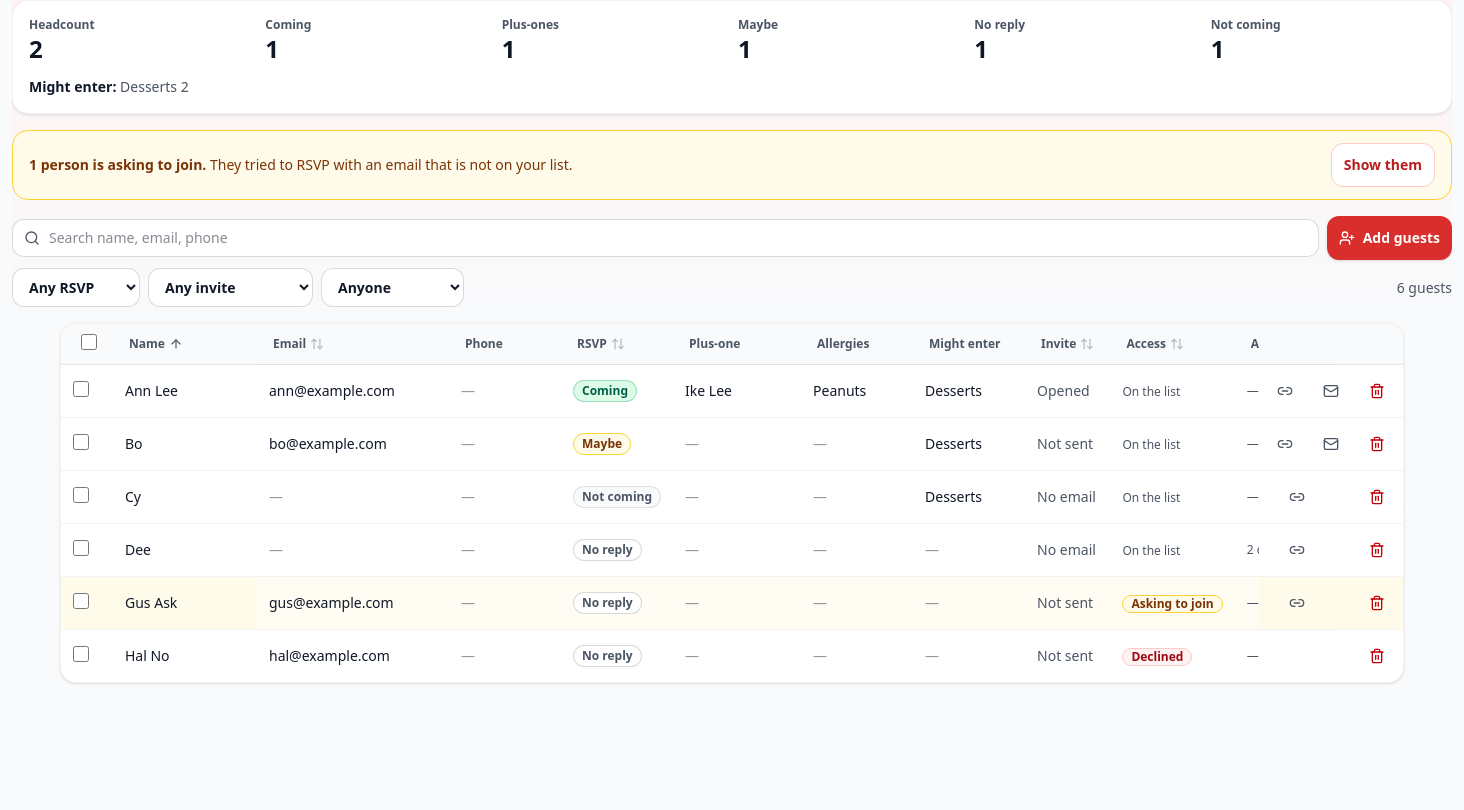
Test: GuestsTab › on a wide screen › keeps the editor open with the problem when a value is invalid
Click the button named "Edit email for Dee" at point(353, 550), box [261,534,445,566]
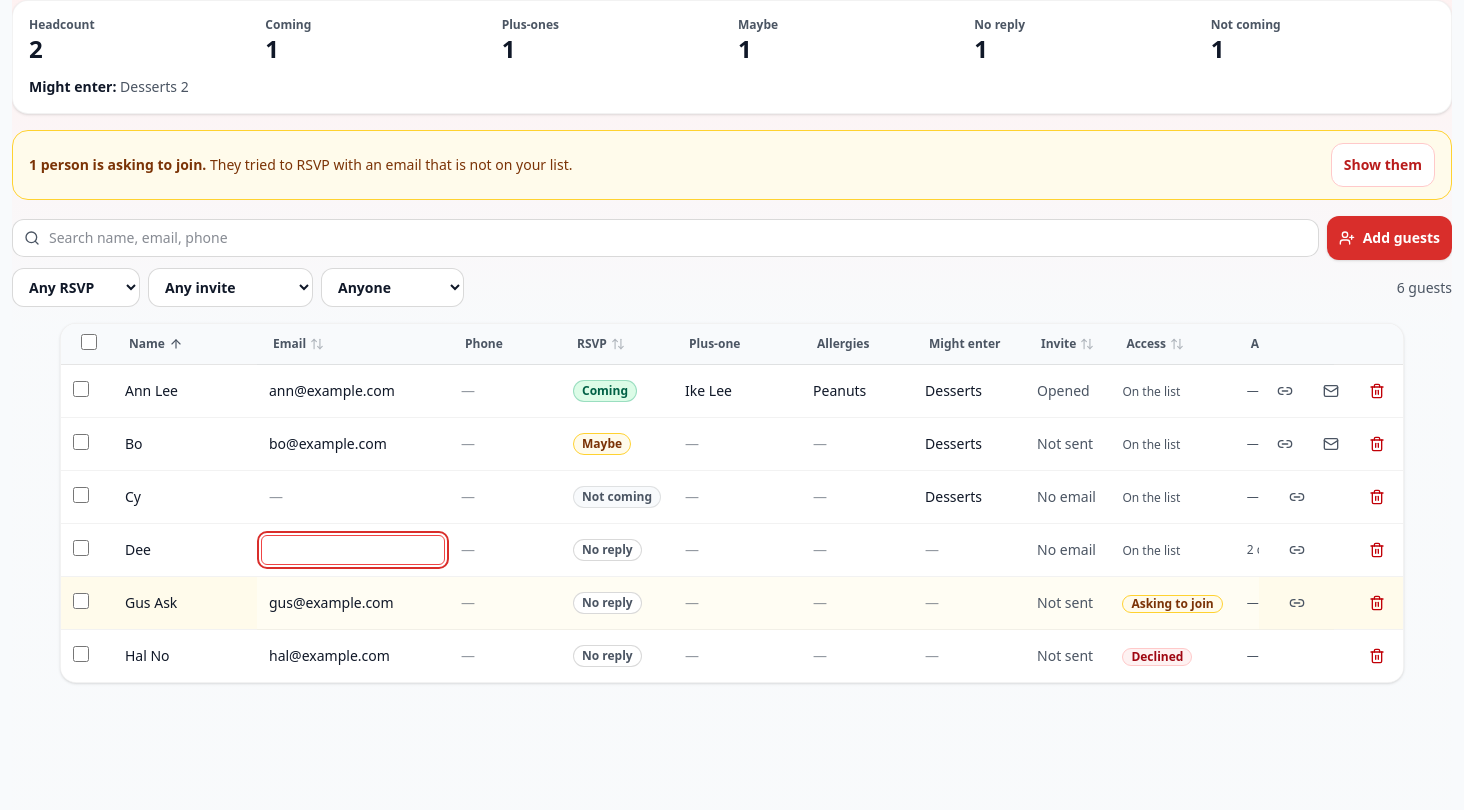
Type "not-an-email" into the field named "Email for Dee" at point(353, 550), box [261,535,445,565]
Then press Enter
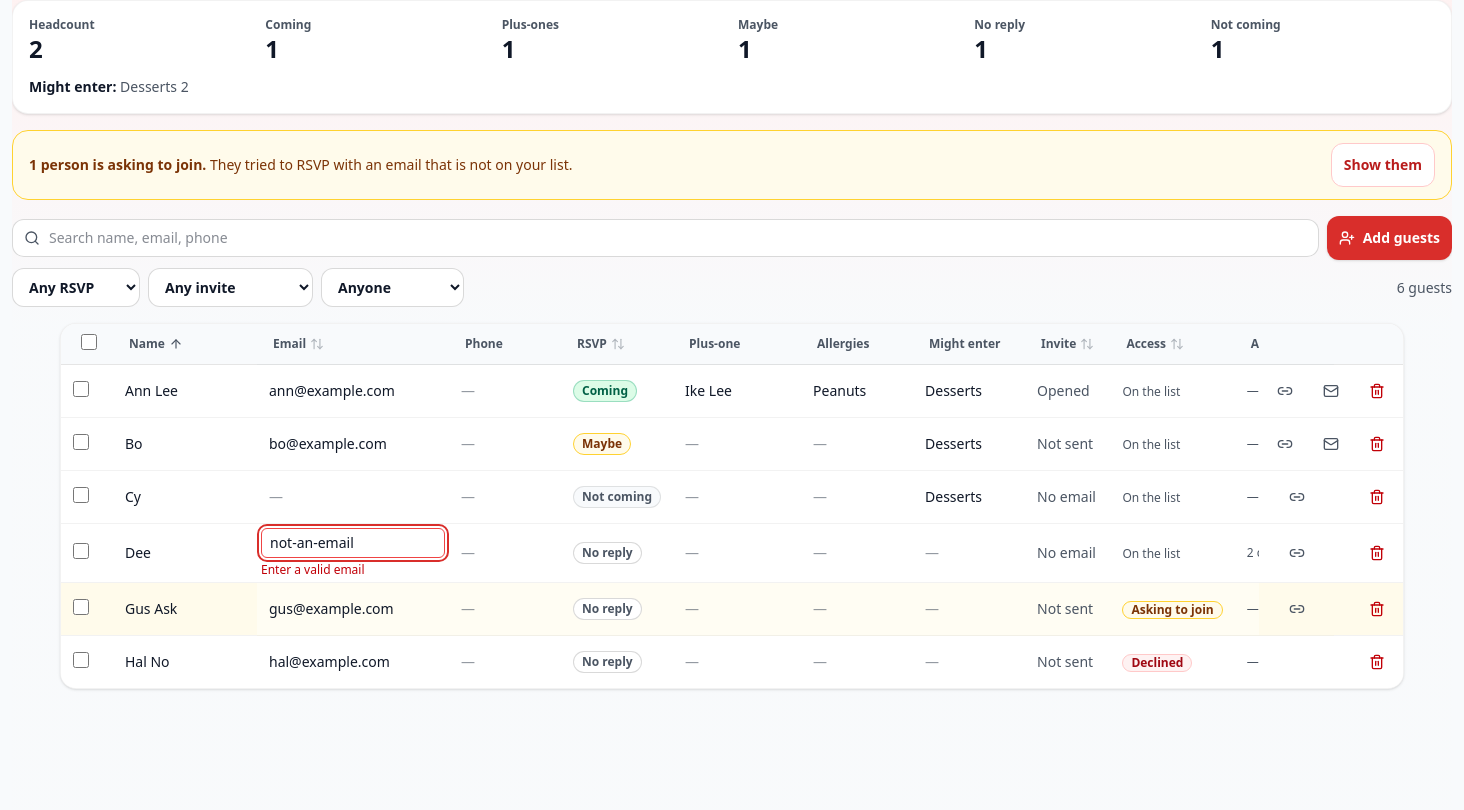
Expected: the message reads "Enter a valid email", [261,561,365,578]
